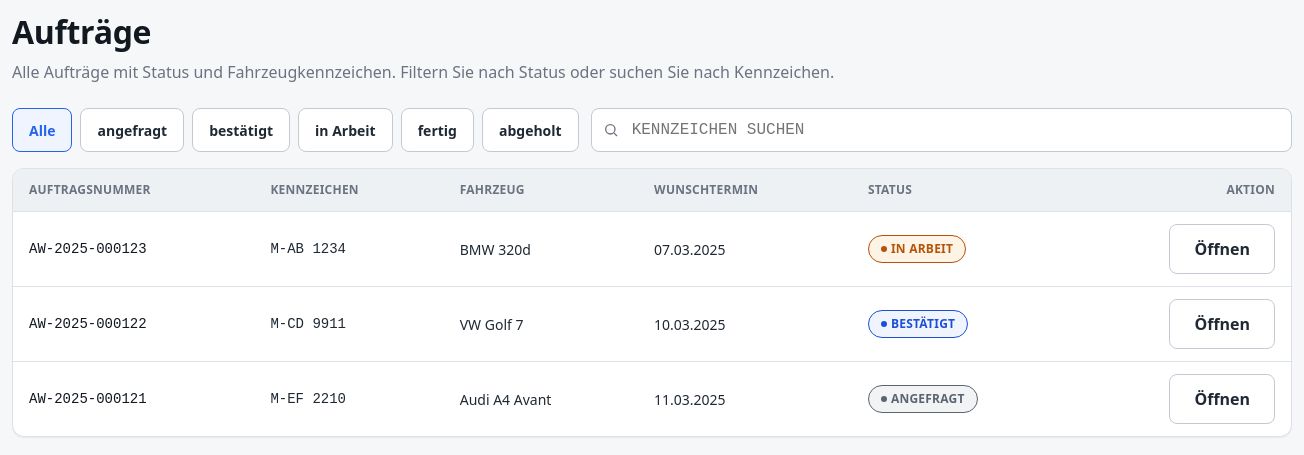
Scenario: ShopOrders status filter › passes the status as a query parameter and only shows that status
The width and height of the screenshot is (1304, 455).
Check: the table is shown, box [13, 169, 1291, 436]
Click the button "bestätigt".
click(241, 130)  # box [192, 108, 290, 152]
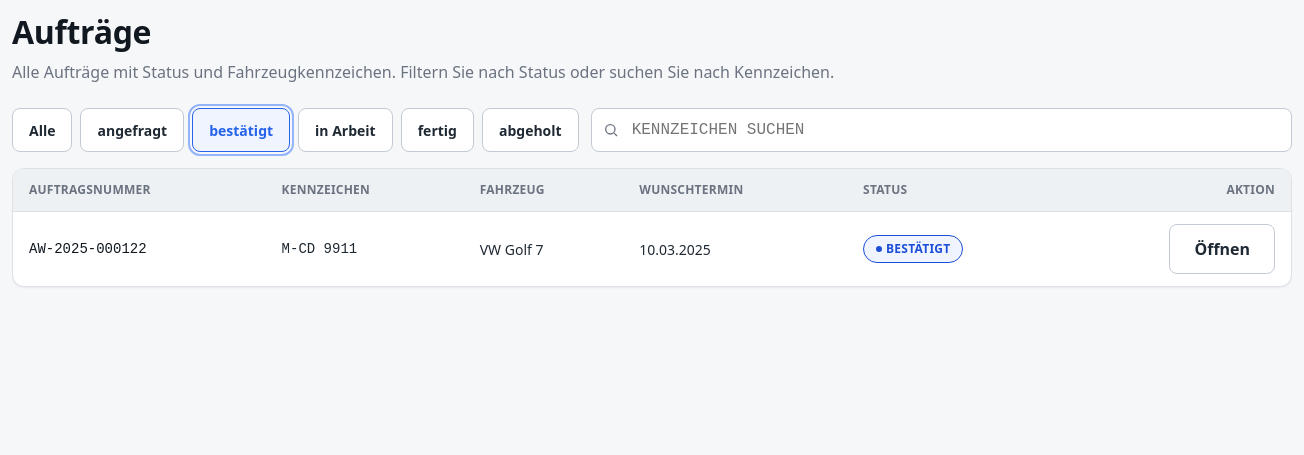
Check: the text "AW-2025-000122" is shown, box [13, 212, 266, 286]
Check: the text "AW-2025-000123" is gone
Check: the text "AW-2025-000121" is gone
